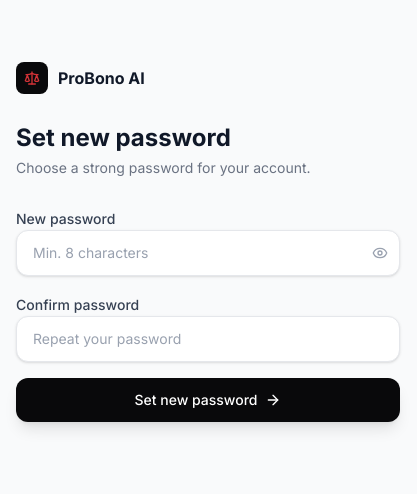
Test case: ResetPasswordPage › shows passwords do not match error
The width and height of the screenshot is (417, 494).
In the password field with placeholder "Min. 8 characters": (208, 253) 16,230 -> 400,276, type "SecurePass99!"
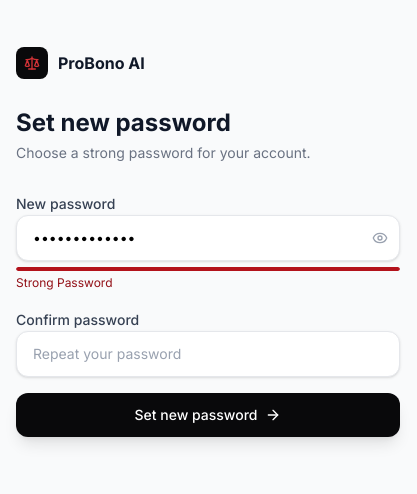
In the password field with placeholder "Repeat your password": (208, 354) 16,331 -> 400,377, type "Different99!"
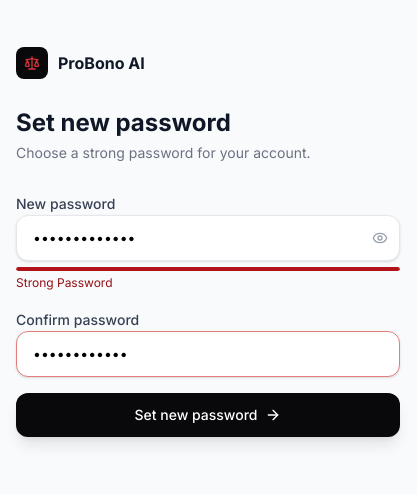
Click the button "Set new password": (208, 415) 16,393 -> 400,437
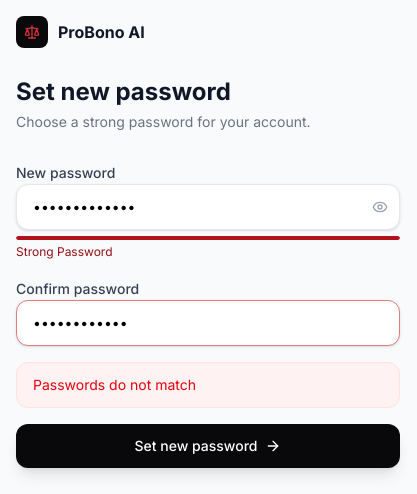
Now the text "Passwords do not match" is shown, box 16,362 -> 400,408
